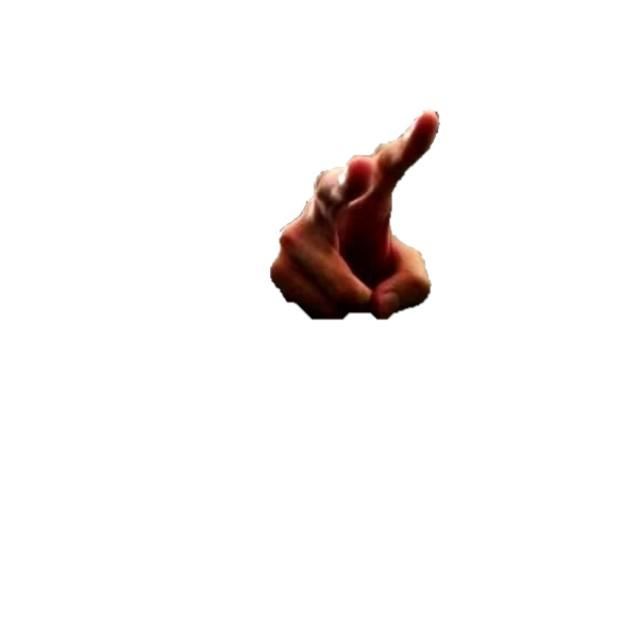tyoki: (268, 108, 442, 323)
